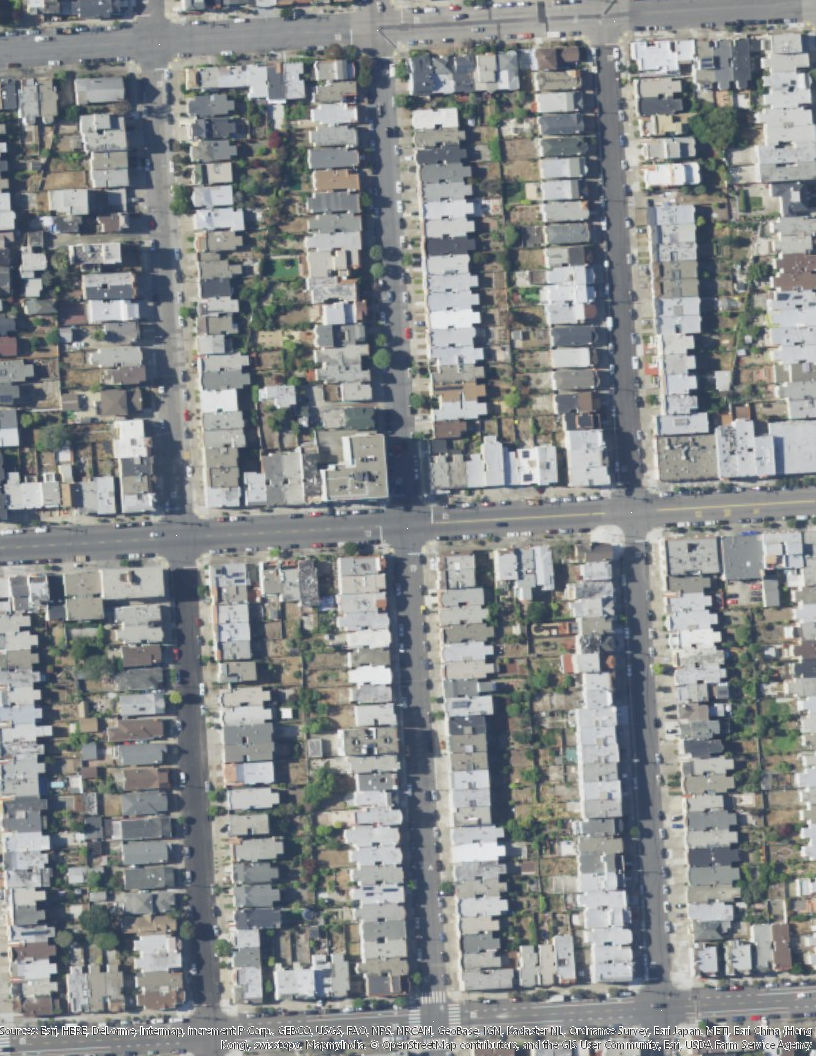zebracross: (417, 992, 446, 1004), (408, 1005, 422, 1029), (448, 1004, 461, 1029)
